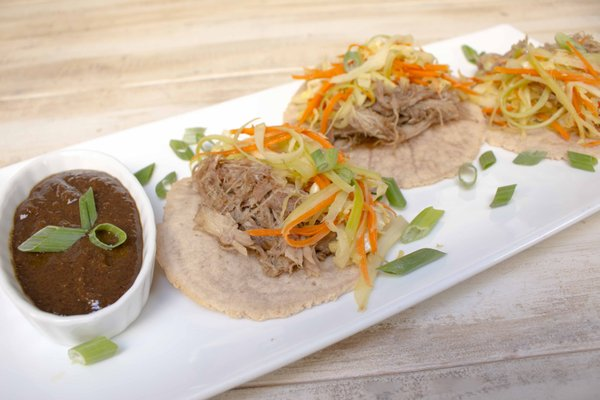soup: (157, 118, 409, 322)
sushi: (1, 148, 157, 347)
